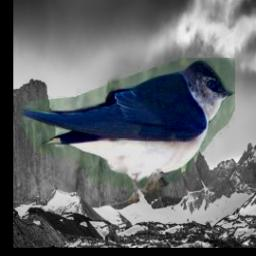Swallow: (17, 59, 235, 204)
